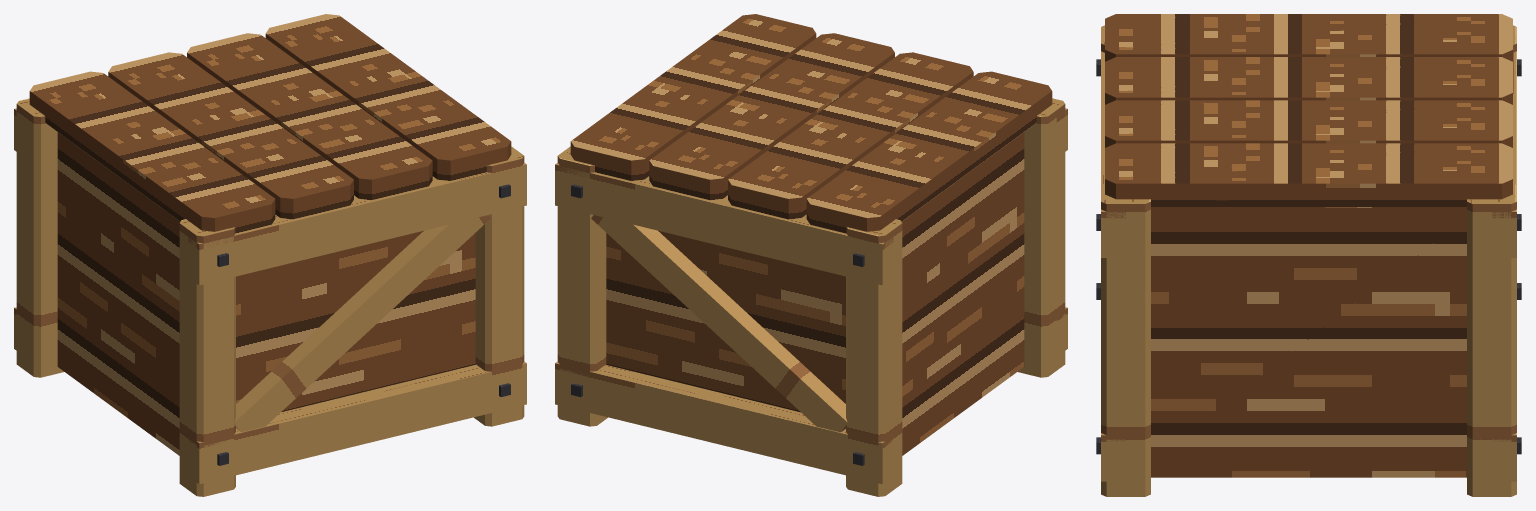
Rendered from wood_crate.glb.
3 views of the same model, side by side, from view 1: azimuth 30°, elevation 25°; view 2: azimuth 150°, elevation 25°; view 3: azimuth 270°, elevation 25° (orthographic). The views are drawn at different scales.
Visible parts, largest first — view 1: wood_crate; view 2: wood_crate; view 3: wood_crate.
Part boxes in pixels (<box>): wood_crate: <box>14,14,526,496</box>; wood_crate: <box>555,14,1067,496</box>; wood_crate: <box>1096,14,1521,496</box>.
Size of the model in its own units: 10 by 8 by 10.
Materials: 1 (1 with a texture image).
